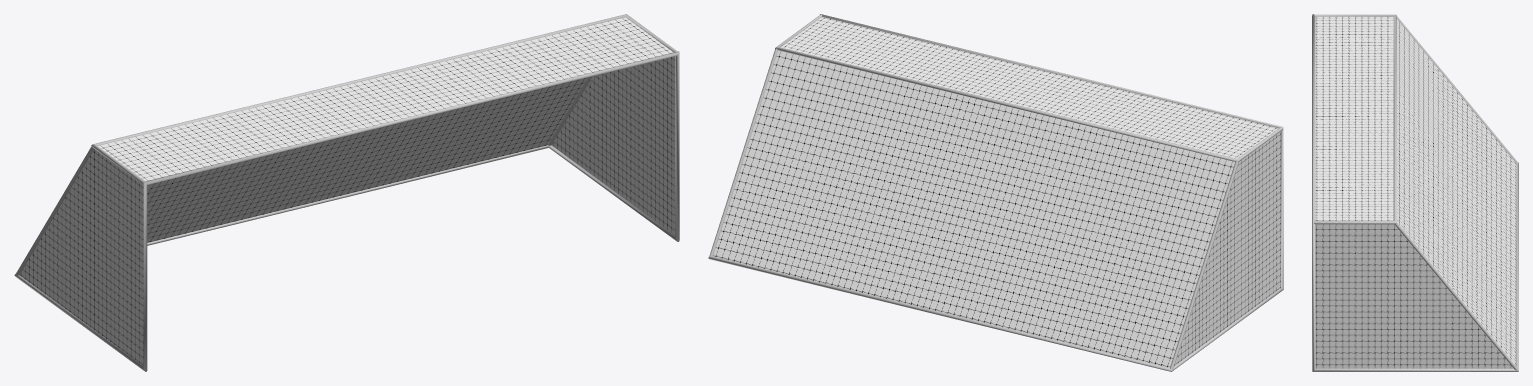
The model's file is soccer_goal.FBX.
The picture shows the model from 3 angles, left to right: view 1: azimuth 30°, elevation 25°; view 2: azimuth 150°, elevation 25°; view 3: azimuth 270°, elevation 25°; orthographic projection. The views are drawn at different scales.
Visible parts, largest first — view 1: soccer_goal; view 2: soccer_goal; view 3: soccer_goal.
Part boxes in pixels (x1,y1,x2,y2): soccer_goal: (14, 14, 679, 371); soccer_goal: (708, 14, 1283, 371); soccer_goal: (1312, 14, 1518, 371).
Size of the model in its own units: 7.37 by 2.49 by 3.1.
